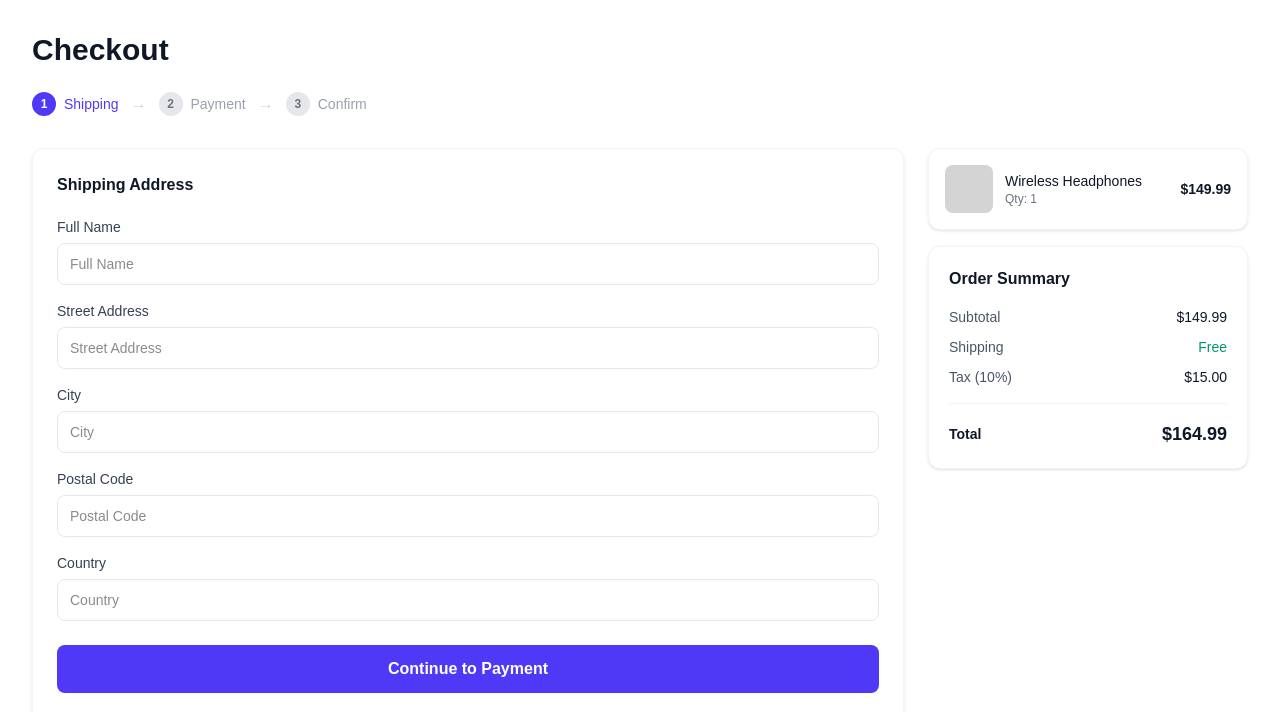
Test: CheckoutPage › advances to payment step after filling shipping form
Type "John Doe" into the field labelled "Full Name" at (468, 264), box [57,243,879,285]
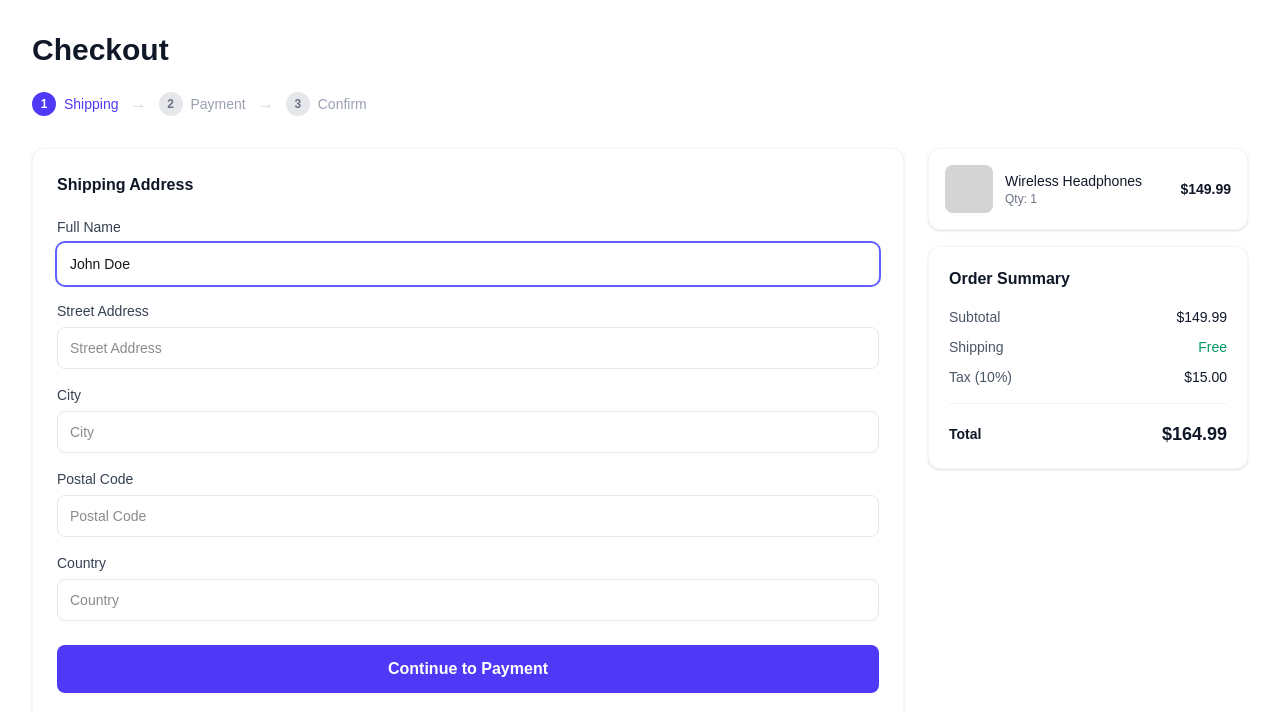
Type "123 Main St" into the field labelled "Street Address" at (468, 348), box [57,327,879,369]
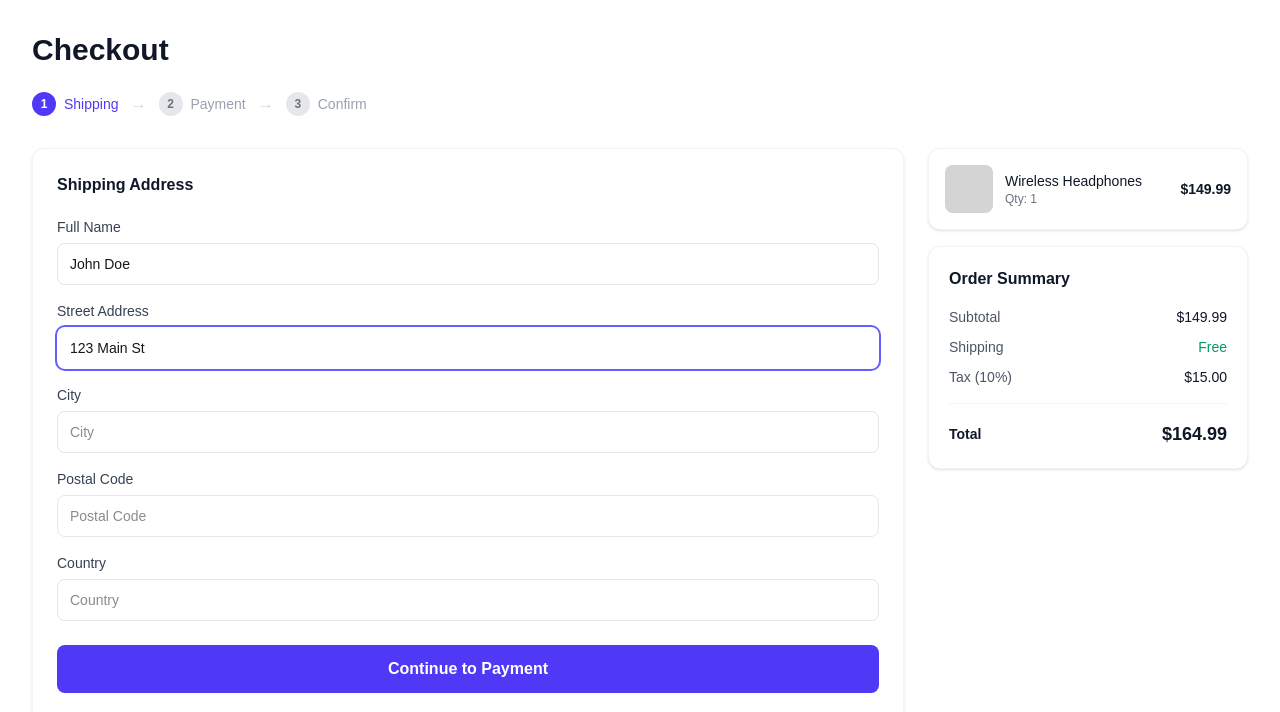
Type "Testville" into the field labelled "City" at (468, 432), box [57,411,879,453]
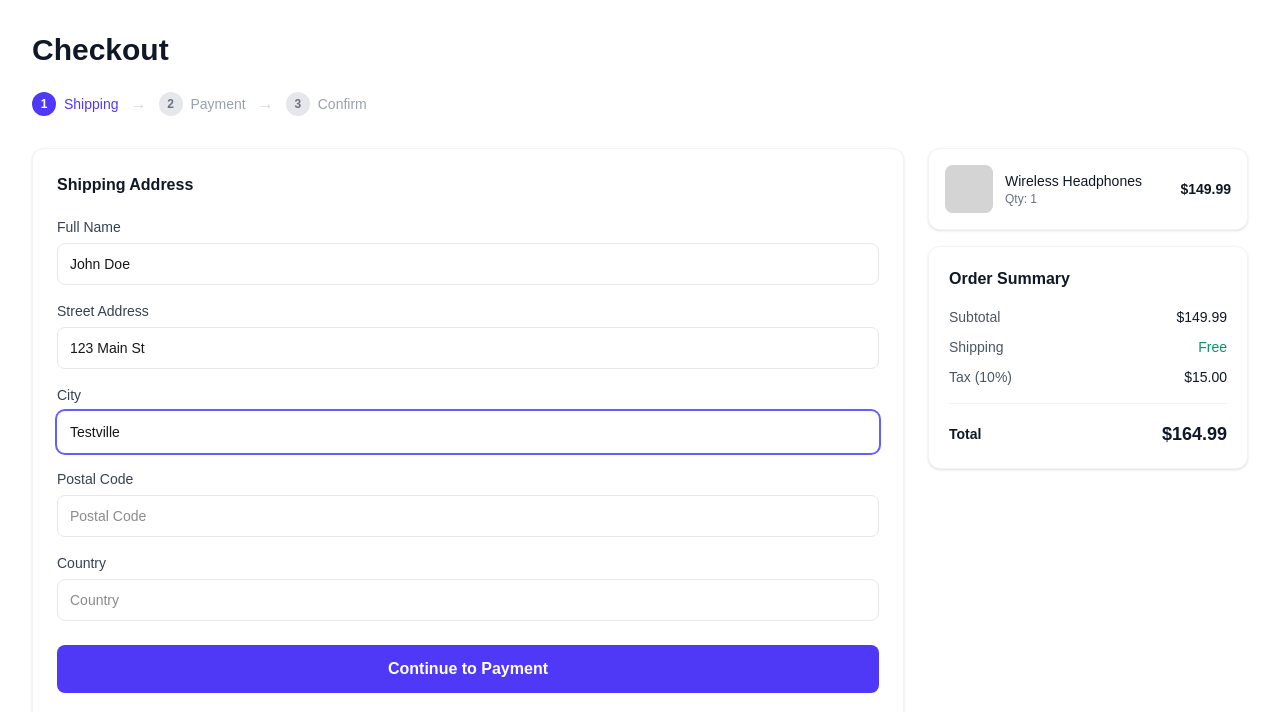
Type "12345" into the field labelled "Postal Code" at (468, 516), box [57,495,879,537]
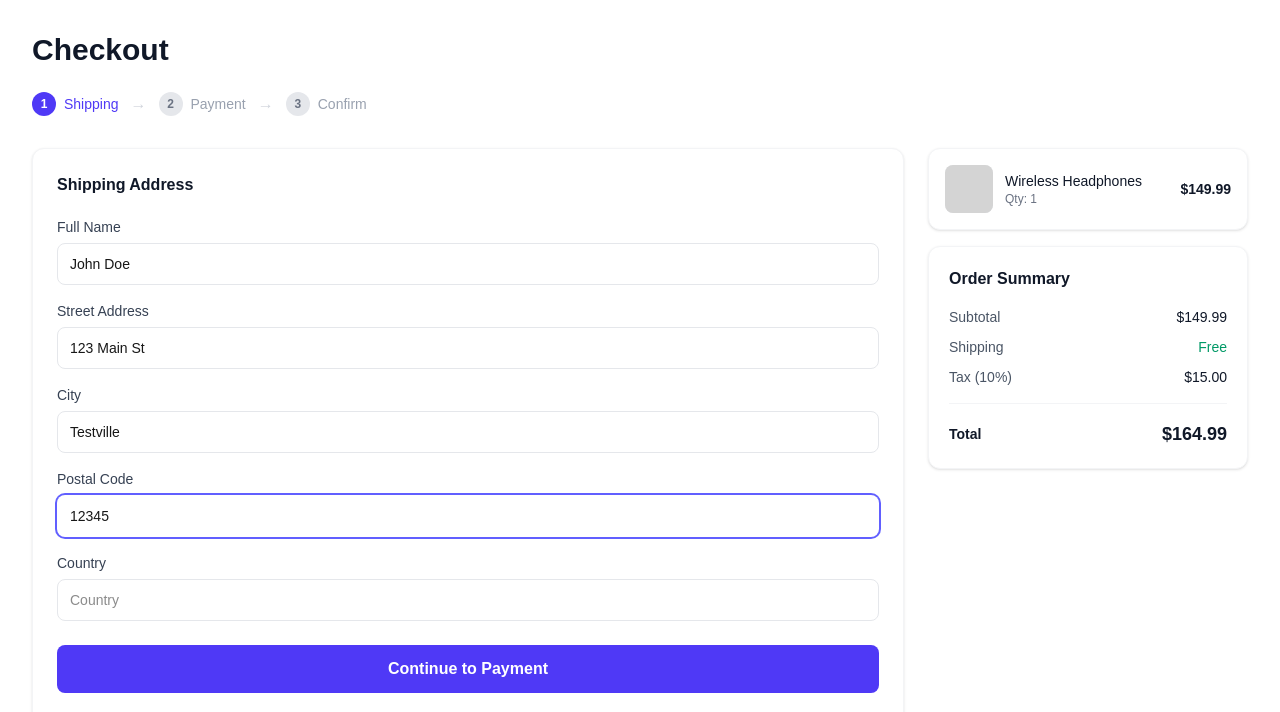
Type "US" into the field labelled "Country" at (468, 600), box [57,579,879,621]
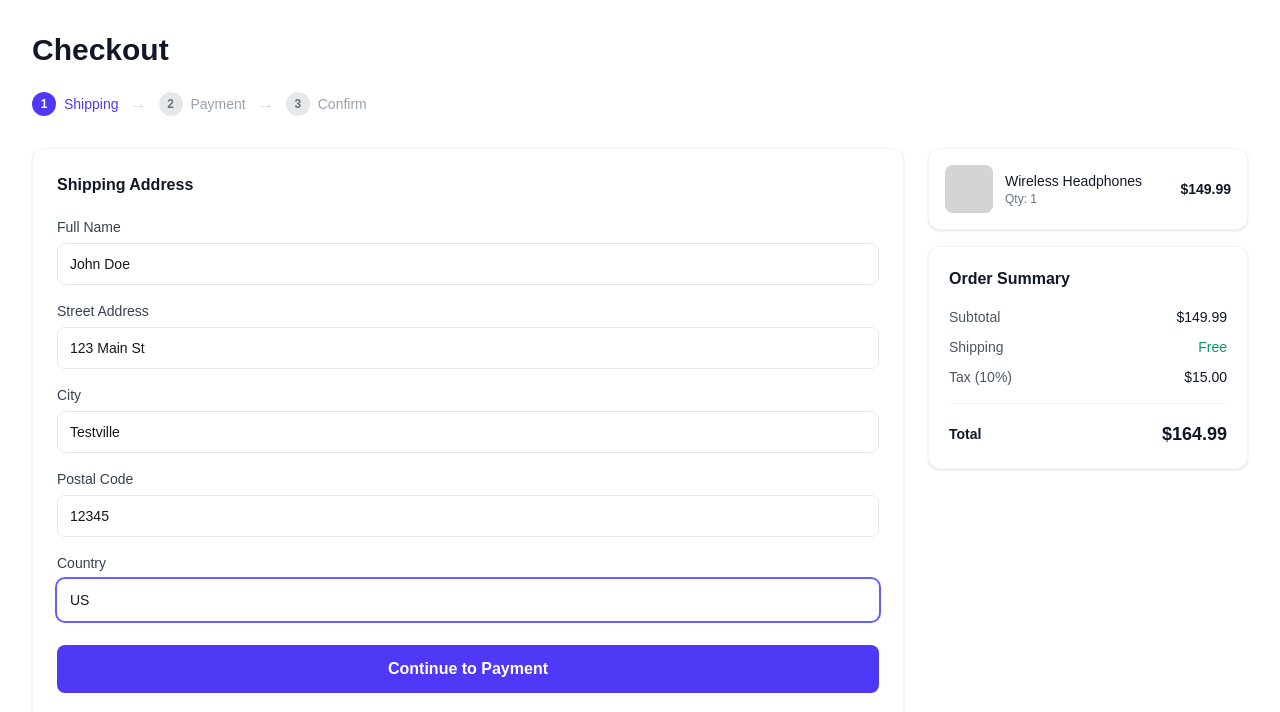
Click the button "Continue to Payment" at (468, 669), box [57,645,879,693]
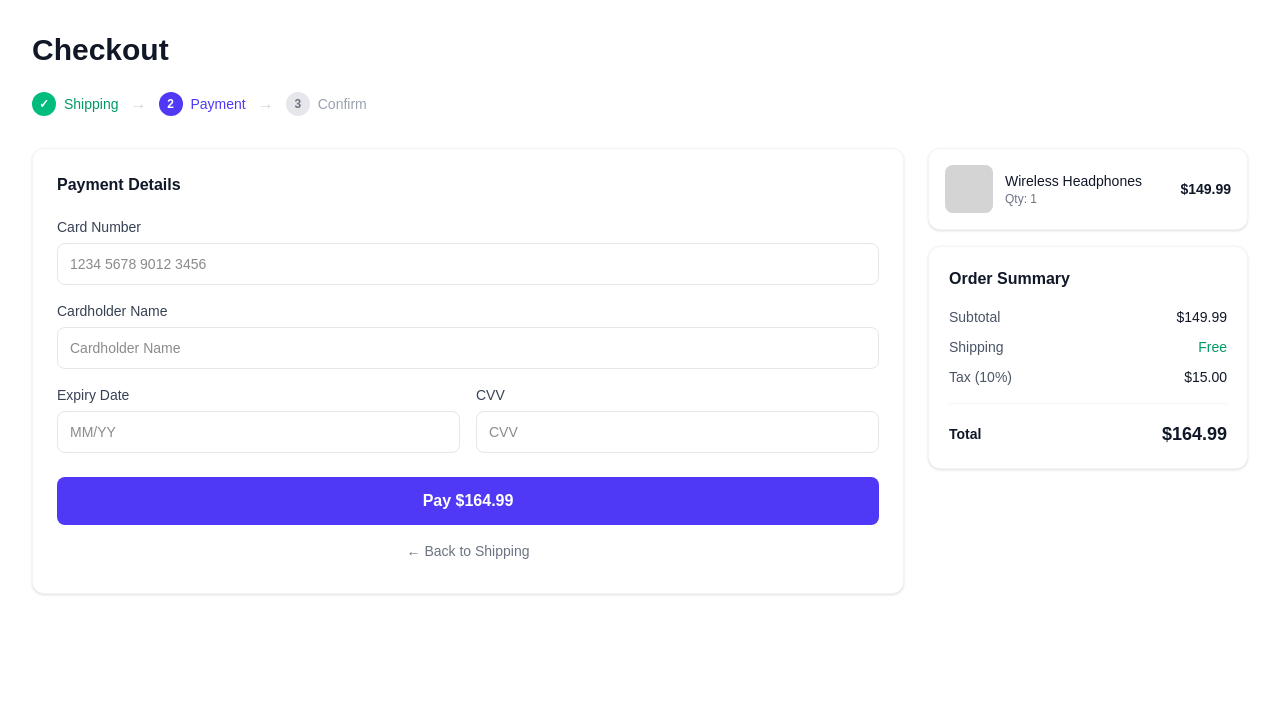
expect the heading "Payment Details" is shown: met, box [57,176,181,193]
